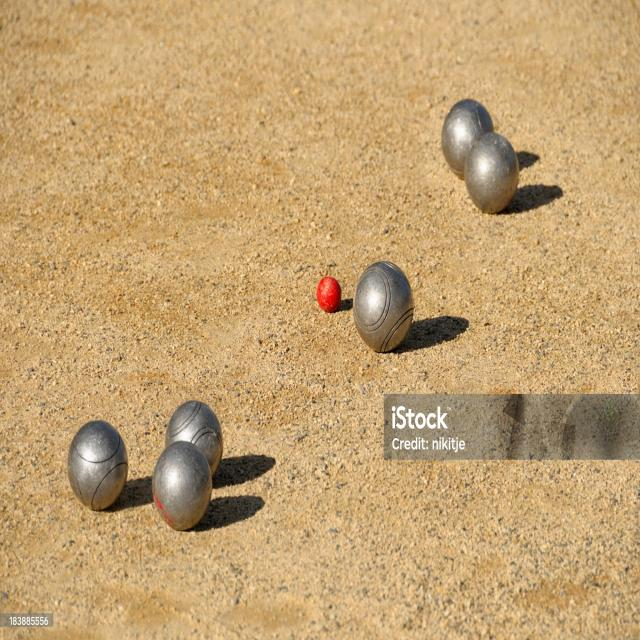hatball: (309, 272, 345, 316)
petanque: (351, 248, 421, 363), (61, 417, 139, 516), (146, 444, 215, 542), (458, 135, 526, 226), (163, 397, 230, 478), (435, 96, 497, 182)
